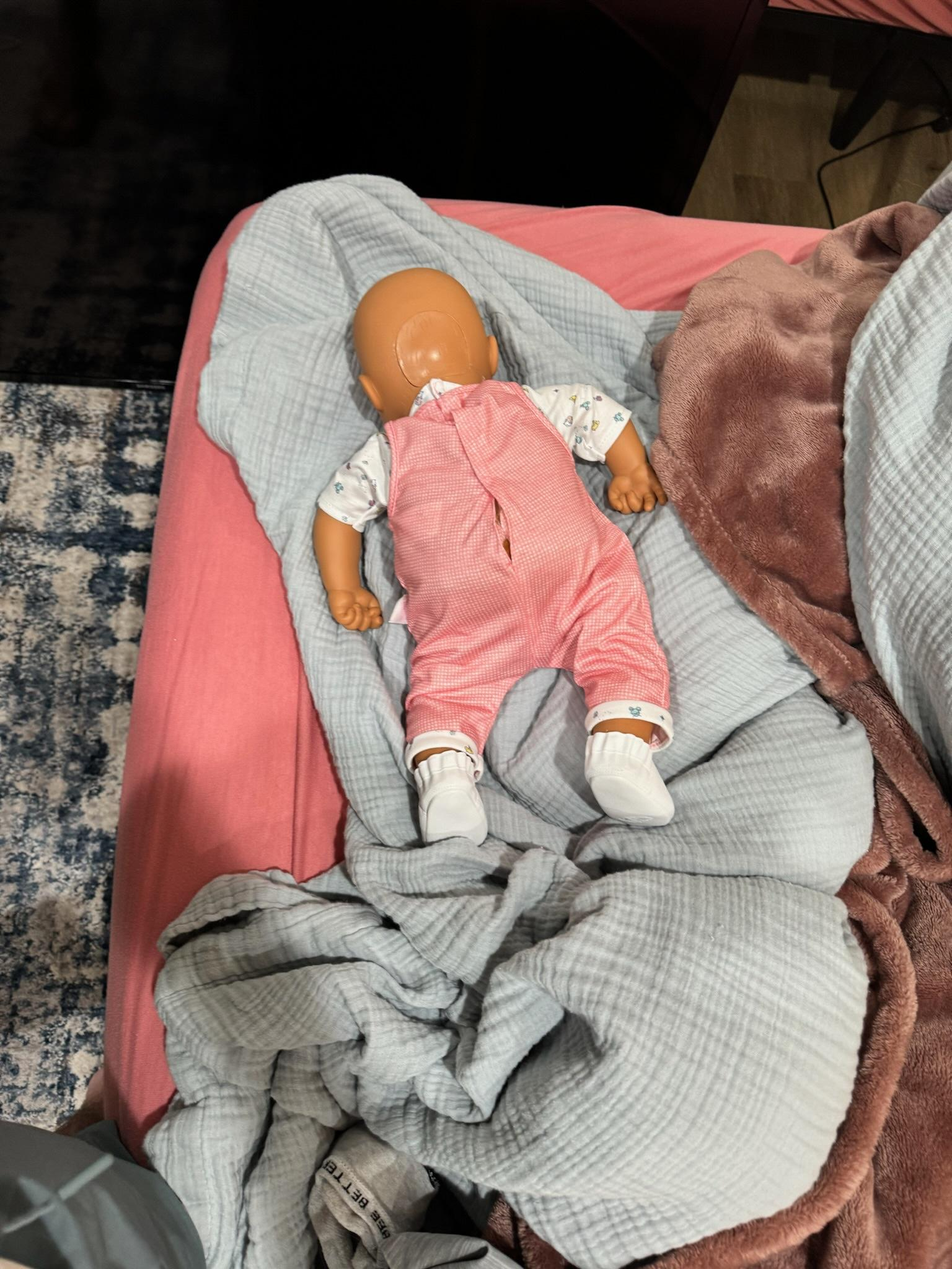baby: (289, 256, 715, 851)
